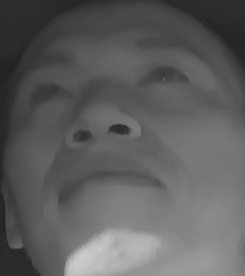eye: (137, 63, 193, 90), (28, 78, 74, 106)
mouth: (56, 156, 166, 213)
